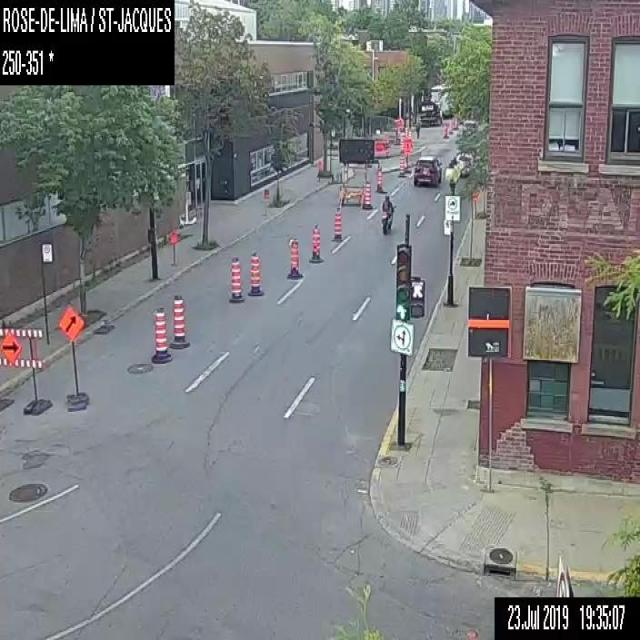construction: (0, 325, 48, 411), (56, 302, 86, 410), (338, 136, 374, 202), (169, 294, 190, 350), (149, 308, 170, 363), (286, 236, 303, 279), (228, 256, 243, 303), (308, 221, 324, 263), (248, 249, 262, 295), (403, 136, 411, 171), (333, 207, 341, 241), (362, 180, 371, 208), (374, 140, 389, 155), (375, 166, 383, 192), (167, 231, 181, 245), (398, 152, 404, 177), (394, 116, 404, 128), (260, 187, 268, 201), (316, 157, 323, 171), (442, 123, 446, 137)
pedestrian: (415, 118, 420, 138)
vehicle: (412, 155, 442, 190), (380, 193, 396, 235)
